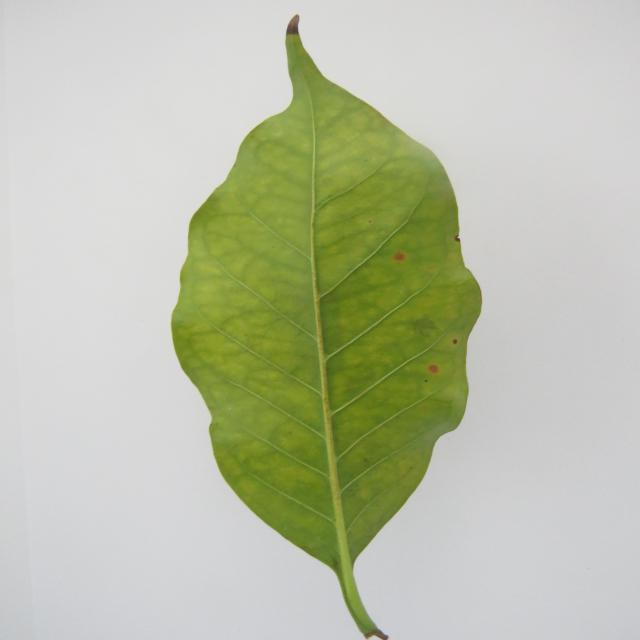DeficienciaNutricional-Calcio: (172, 16, 480, 640)
